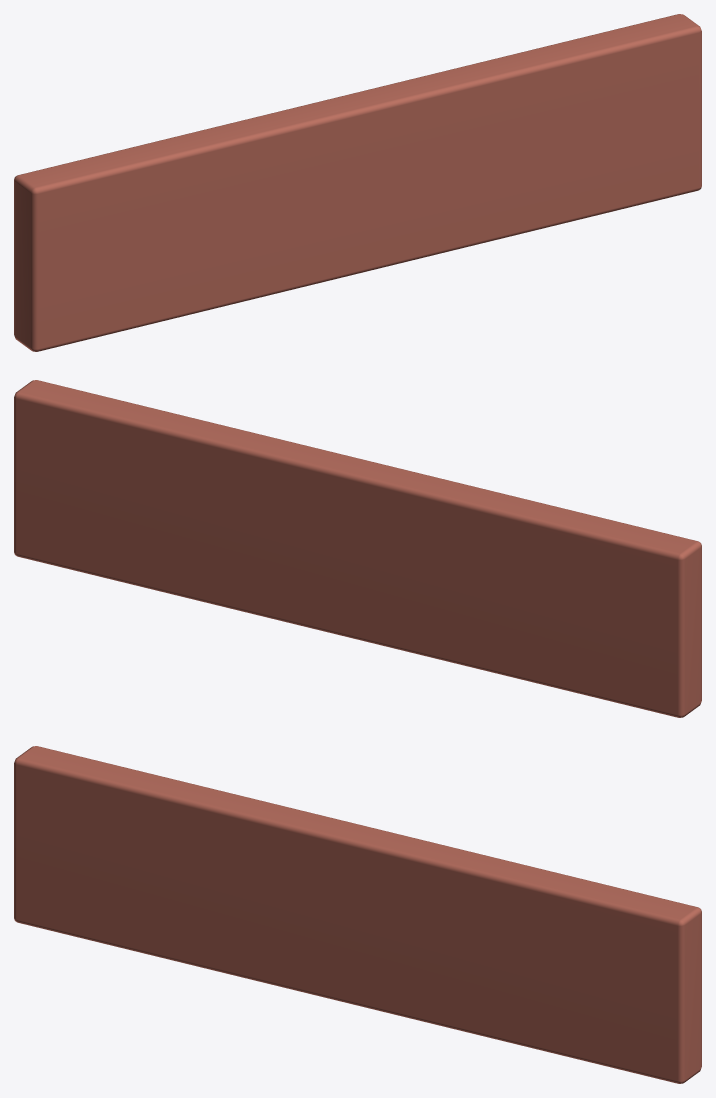
Rendered from Wall_Obstacle_Long.fbx.
3 views of the same model, one above another, from view 1: azimuth 30°, elevation 25°; view 2: azimuth 150°, elevation 25°; view 3: azimuth 330°, elevation 25° (orthographic).
Parts seen in each view (by area): view 1: Wall_Obstacle_Long; view 2: Wall_Obstacle_Long; view 3: Wall_Obstacle_Long.
Part boxes in pixels (bbox=[...]): Wall_Obstacle_Long: bbox=[14, 14, 701, 351]; Wall_Obstacle_Long: bbox=[14, 380, 701, 717]; Wall_Obstacle_Long: bbox=[14, 746, 701, 1083].
Size of the model in its own units: 426 by 100 by 23.89.
